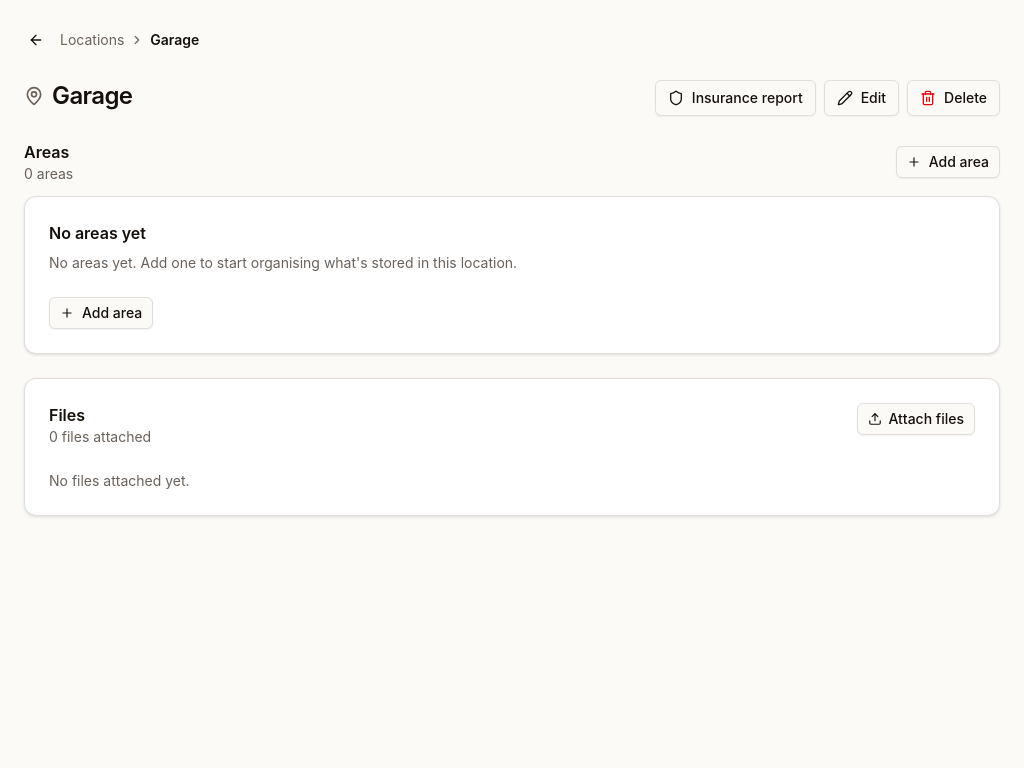
Scenario: <LocationDetailPage /> › opens the upload dialog with the location name in the title from the EntityFilesPanel Attach button (#1448)
Click the button with test id "entity-files-panel-attach" at point(916, 419), box [858, 403, 975, 435]
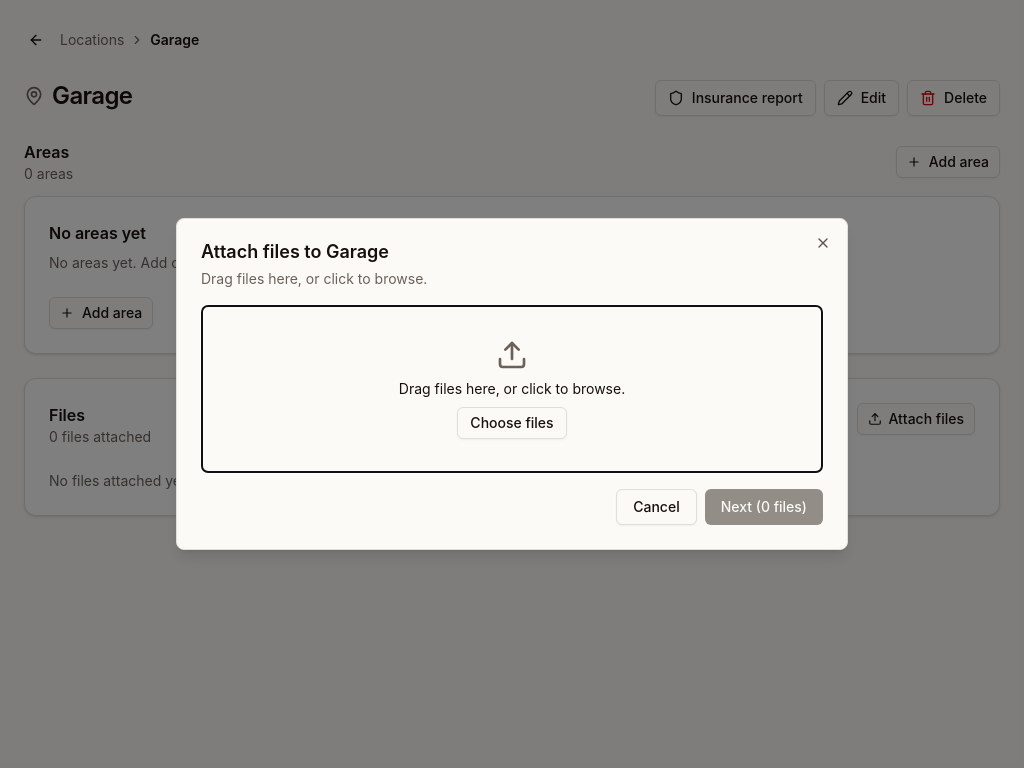
Result: the heading "Attach files to Garage" is shown at [201, 241, 389, 262]
